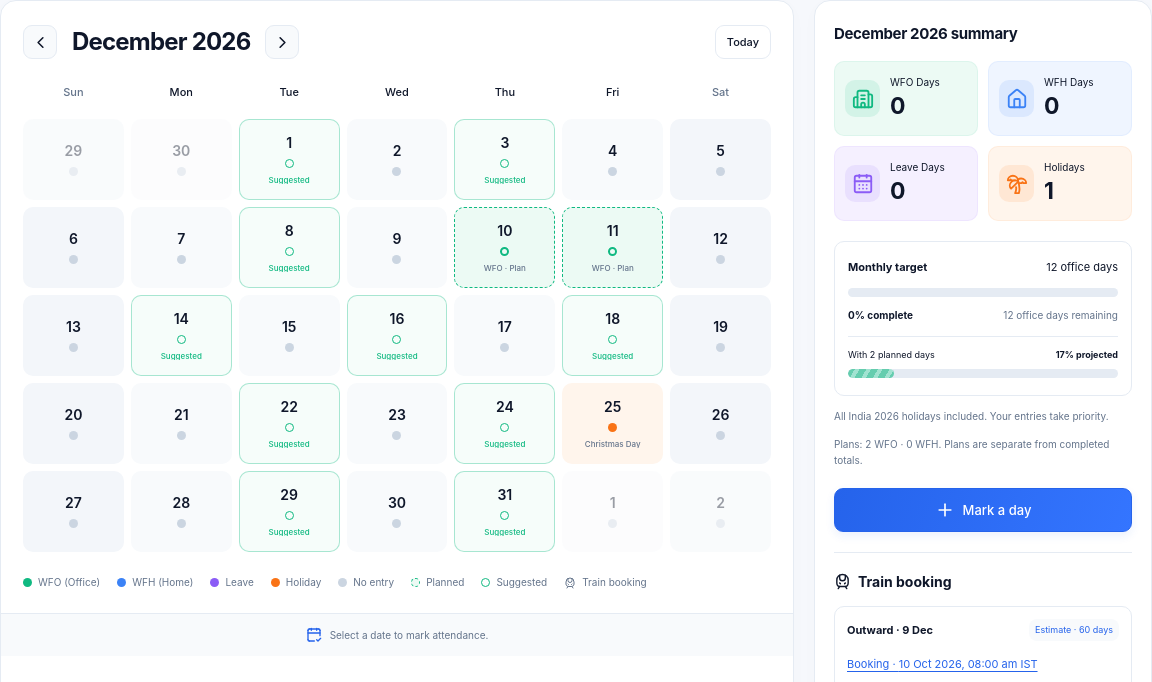
Calendar to train reminders › jumps from the office month back to the 60-day booking month
The width and height of the screenshot is (1152, 682).
Click the button with aria-label "Show booking date 10 October 2026 in calendar": (942, 659) 847,641 -> 1038,677
(page scrolled)
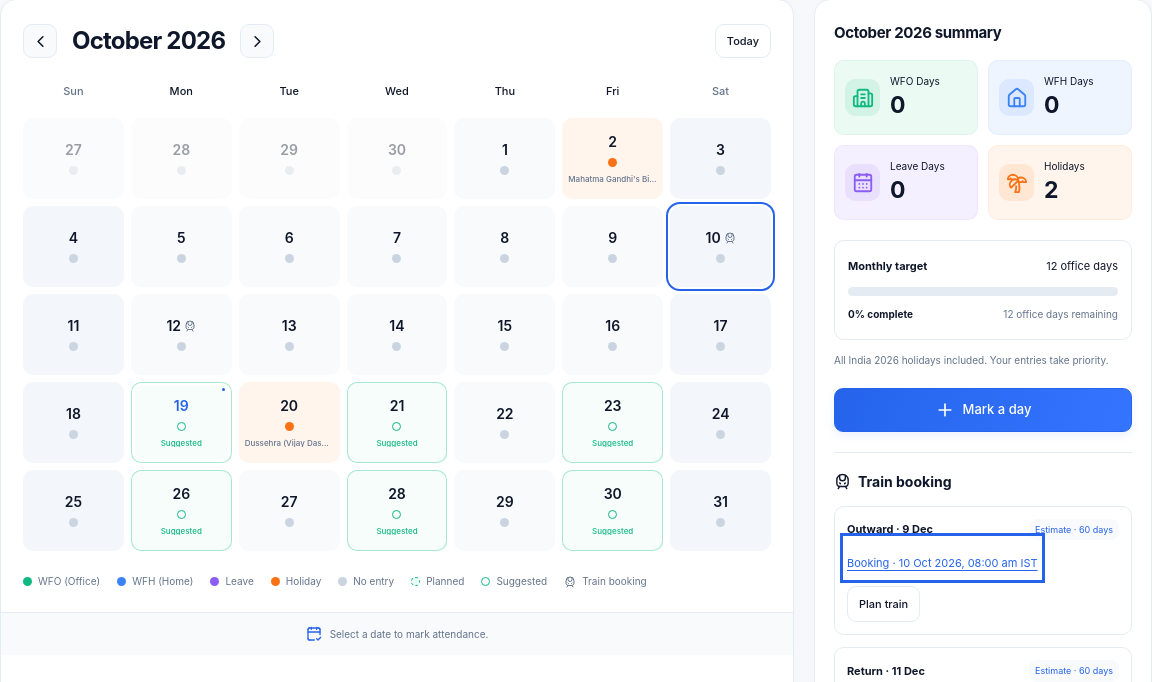
Expected: the heading "October 2026" is shown, 72,24 -> 225,58
